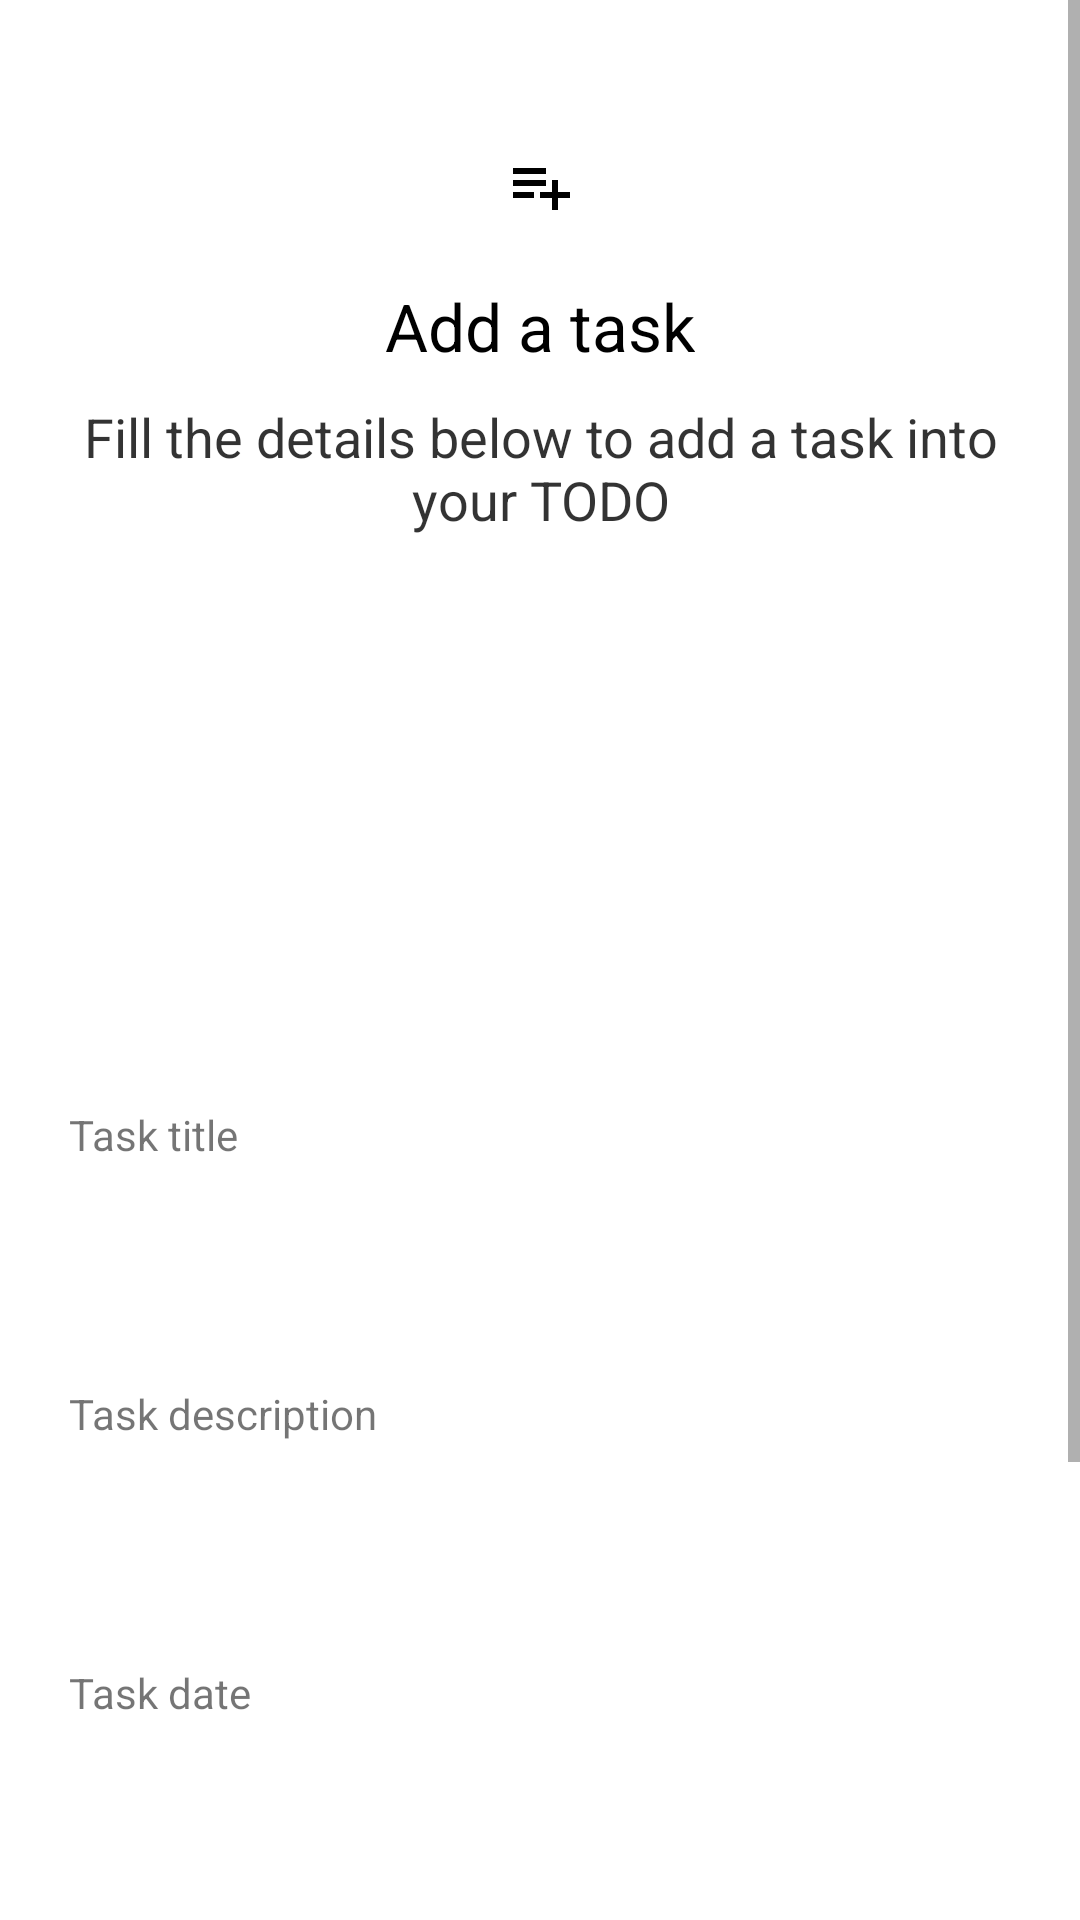

Screen size 1080×1920. Icon name, then its center in pixels as (x,y):
playlist add: (541,189)
